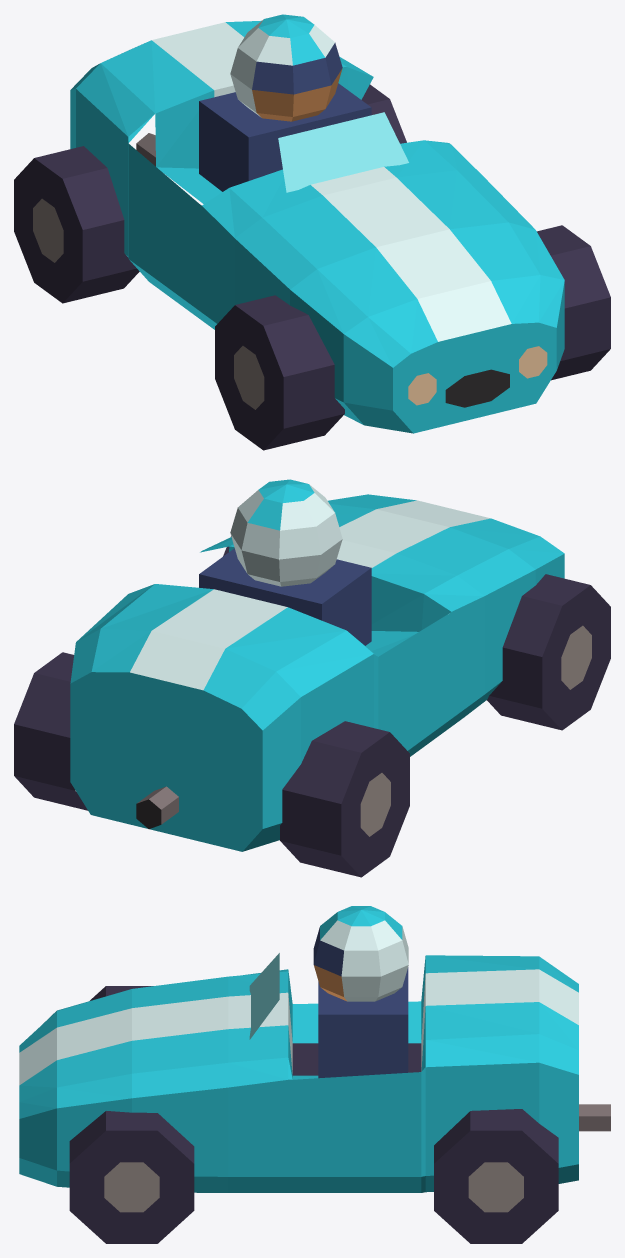
The model's file is racer_blue.glb.
The picture shows the model from 3 angles, top to bottom: view 1: azimuth 30°, elevation 25°; view 2: azimuth 150°, elevation 25°; view 3: azimuth 270°, elevation 25°; orthographic projection. The views are drawn at different scales.
Parts seen in each view (by area): view 1: Racer; view 2: Racer; view 3: Racer.
Part boxes in pixels (x1,y1,x2,y2): Racer: [14, 14, 610, 450]; Racer: [14, 479, 610, 877]; Racer: [19, 906, 610, 1243].
Bounding box in the file's own units: 1.6 × 1.35 × 2.78.
